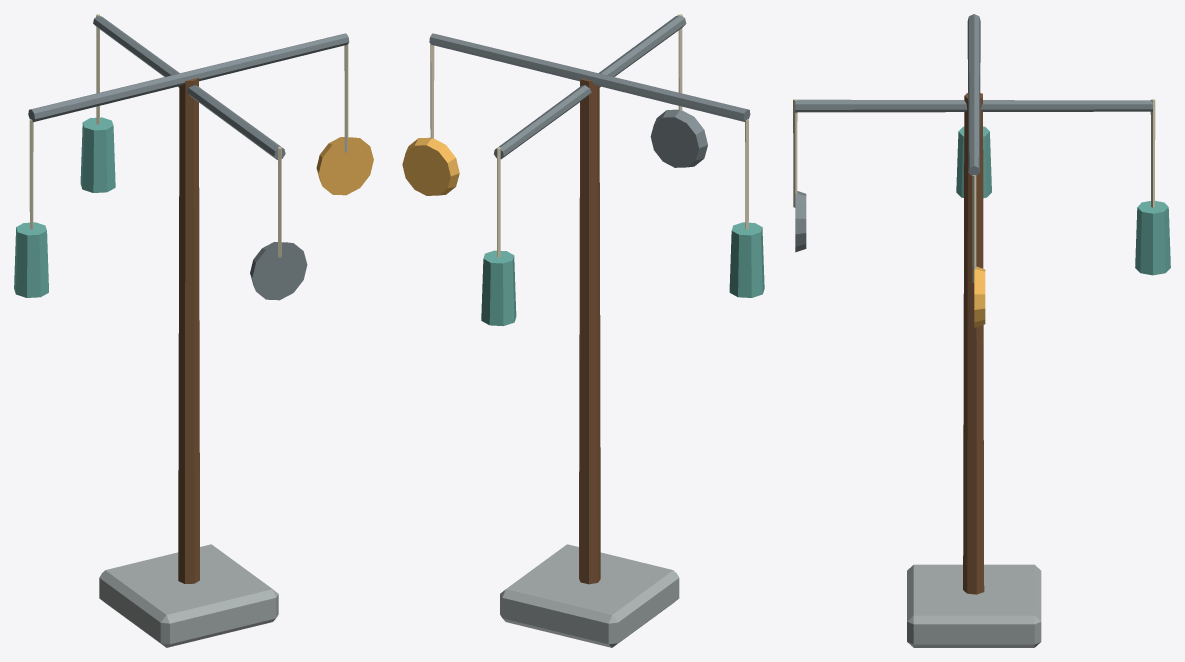
File: CC_BottleMobile.fbx
The picture shows the model from 3 angles, left to right: view 1: azimuth 30°, elevation 25°; view 2: azimuth 150°, elevation 25°; view 3: azimuth 270°, elevation 25°; orthographic projection.
Parts seen in each view (by area): view 1: Mobile base, Mobile post, Mobile arm, Mobile arm.001, Cap.018, Cap.019, Little bottle.001, Little bottle, String.004, String.005; view 2: Mobile base, Mobile post, Mobile arm, Mobile arm.001, Cap.018, Cap.019, Little bottle, Little bottle.001; view 3: Mobile base, Mobile post, Mobile arm.001, Little bottle.001, Mobile arm, Little bottle, Cap.018, Cap.019.
Boxes of the visible parts, bbox=[...] form: Mobile base: bbox=[99, 544, 278, 647]; Mobile post: bbox=[178, 77, 199, 583]; Mobile arm: bbox=[28, 33, 349, 122]; Mobile arm.001: bbox=[93, 16, 285, 159]; Cap.018: bbox=[316, 137, 373, 195]; Cap.019: bbox=[250, 242, 307, 300]; Little bottle.001: bbox=[80, 117, 115, 192]; Little bottle: bbox=[14, 222, 48, 297]; String.004: bbox=[29, 119, 33, 229]; String.005: bbox=[344, 44, 348, 152]; Mobile base: bbox=[500, 544, 679, 647]; Mobile post: bbox=[579, 78, 600, 584]; Mobile arm: bbox=[429, 33, 750, 122]; Mobile arm.001: bbox=[494, 15, 686, 159]; Cap.018: bbox=[402, 137, 459, 195]; Cap.019: bbox=[650, 109, 707, 167]; Little bottle: bbox=[729, 222, 764, 297]; Little bottle.001: bbox=[481, 250, 516, 326]; Mobile base: bbox=[907, 564, 1041, 647]; Mobile post: bbox=[963, 92, 984, 594]; Mobile arm.001: bbox=[795, 99, 1152, 112]; Little bottle.001: bbox=[1135, 201, 1170, 275]; Mobile arm: bbox=[967, 14, 980, 175]; Little bottle: bbox=[956, 126, 991, 198]; Cap.018: bbox=[974, 266, 985, 327]; Cap.019: bbox=[795, 191, 806, 252].
Size of the model in its own units: 1.82 by 2.63 by 1.69.
